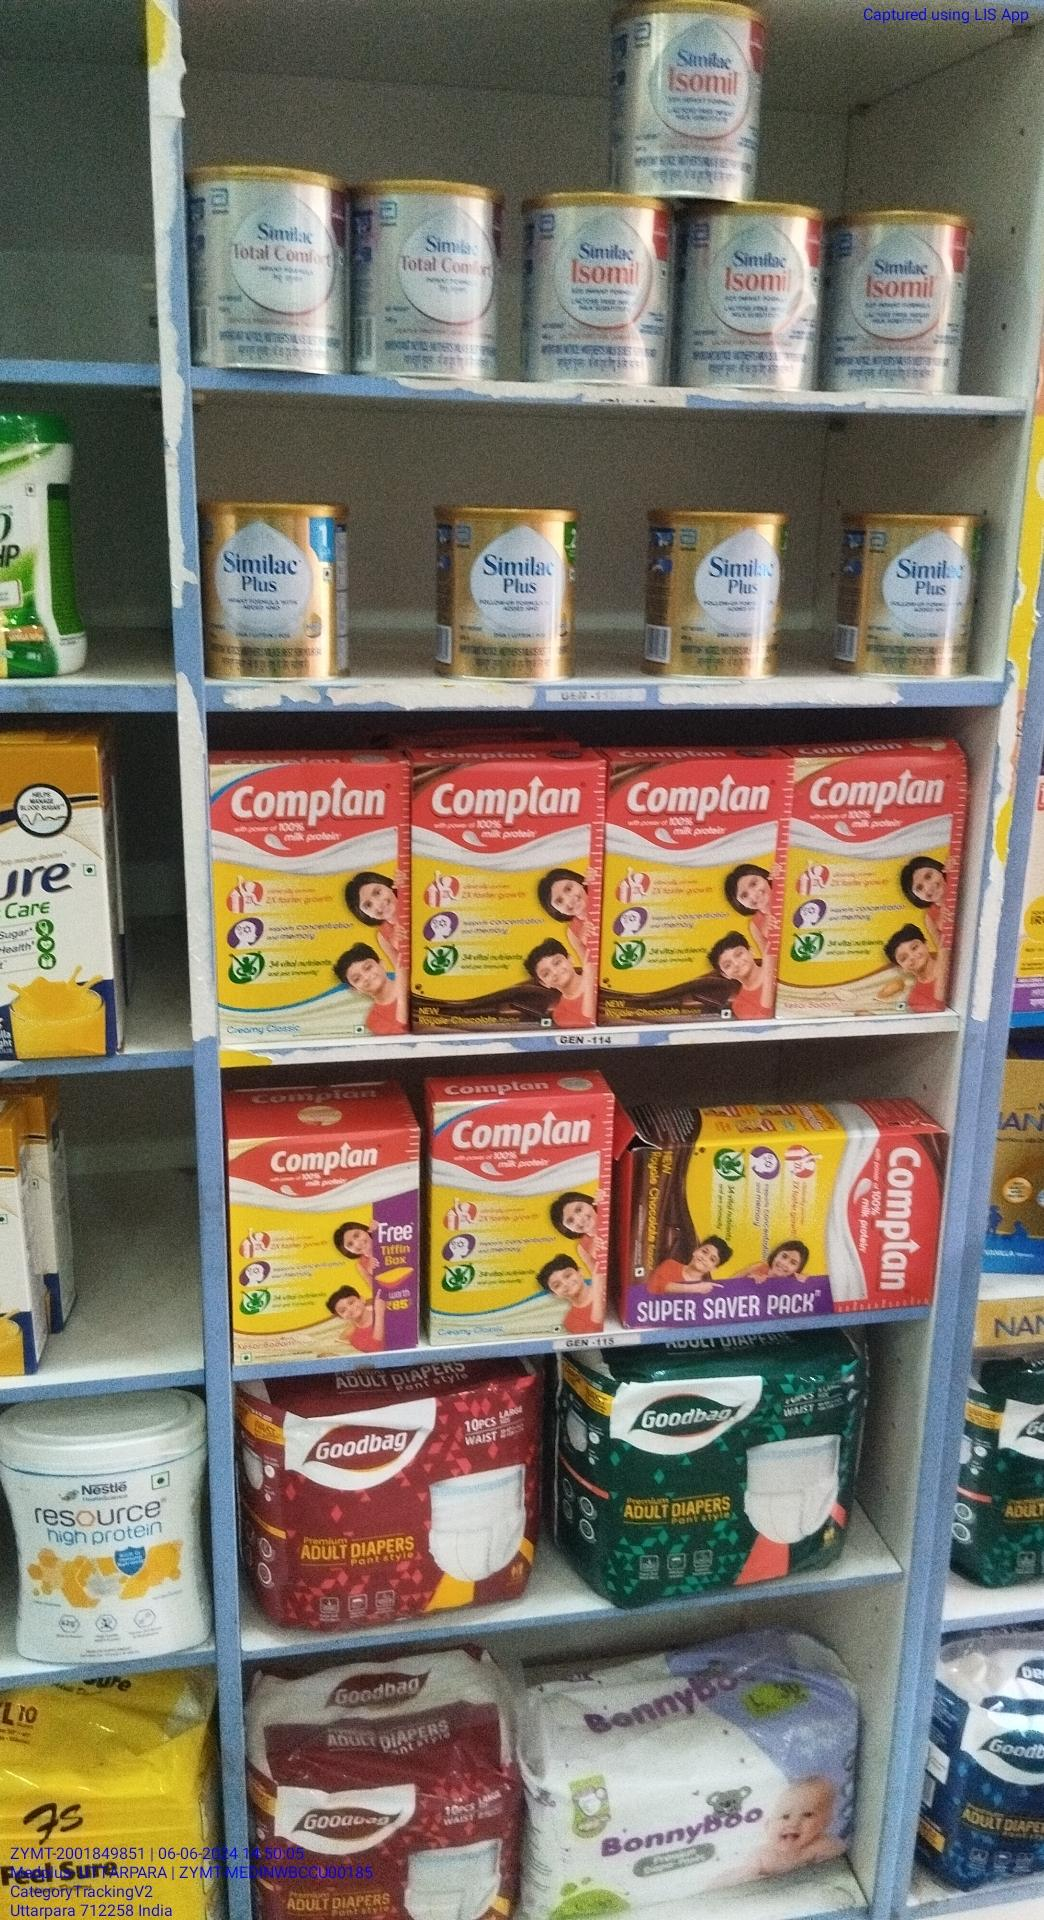COMPLAN_CHOCOLATE_500_GMS_PACK: (417, 761, 600, 1032), (608, 754, 782, 1026)
COMPLAN_CREAMY_CLASSIC_500_G_PACK: (206, 763, 409, 1040), (433, 1099, 615, 1337)
COMPLAN_KESAR_BADAM_200_GMS_PACK: (229, 1123, 418, 1358)
COMPLAN_KESAR_BADAM_500_GMS_PACK: (791, 748, 966, 1018)
